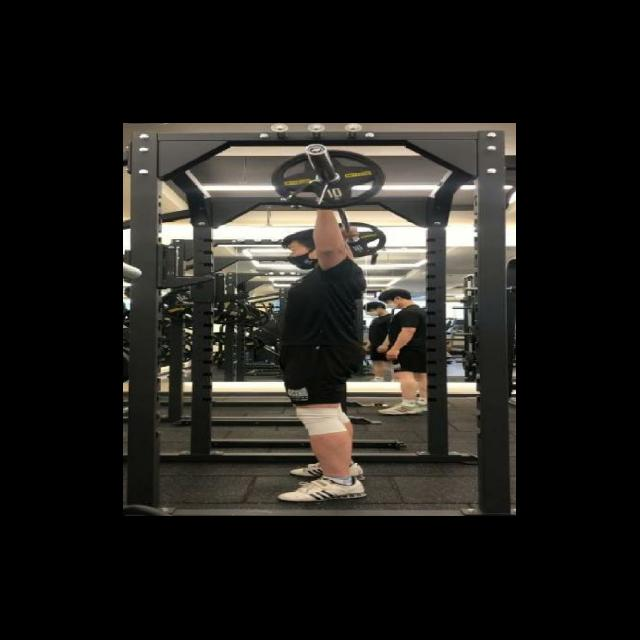barbell: (255, 141, 406, 213)
